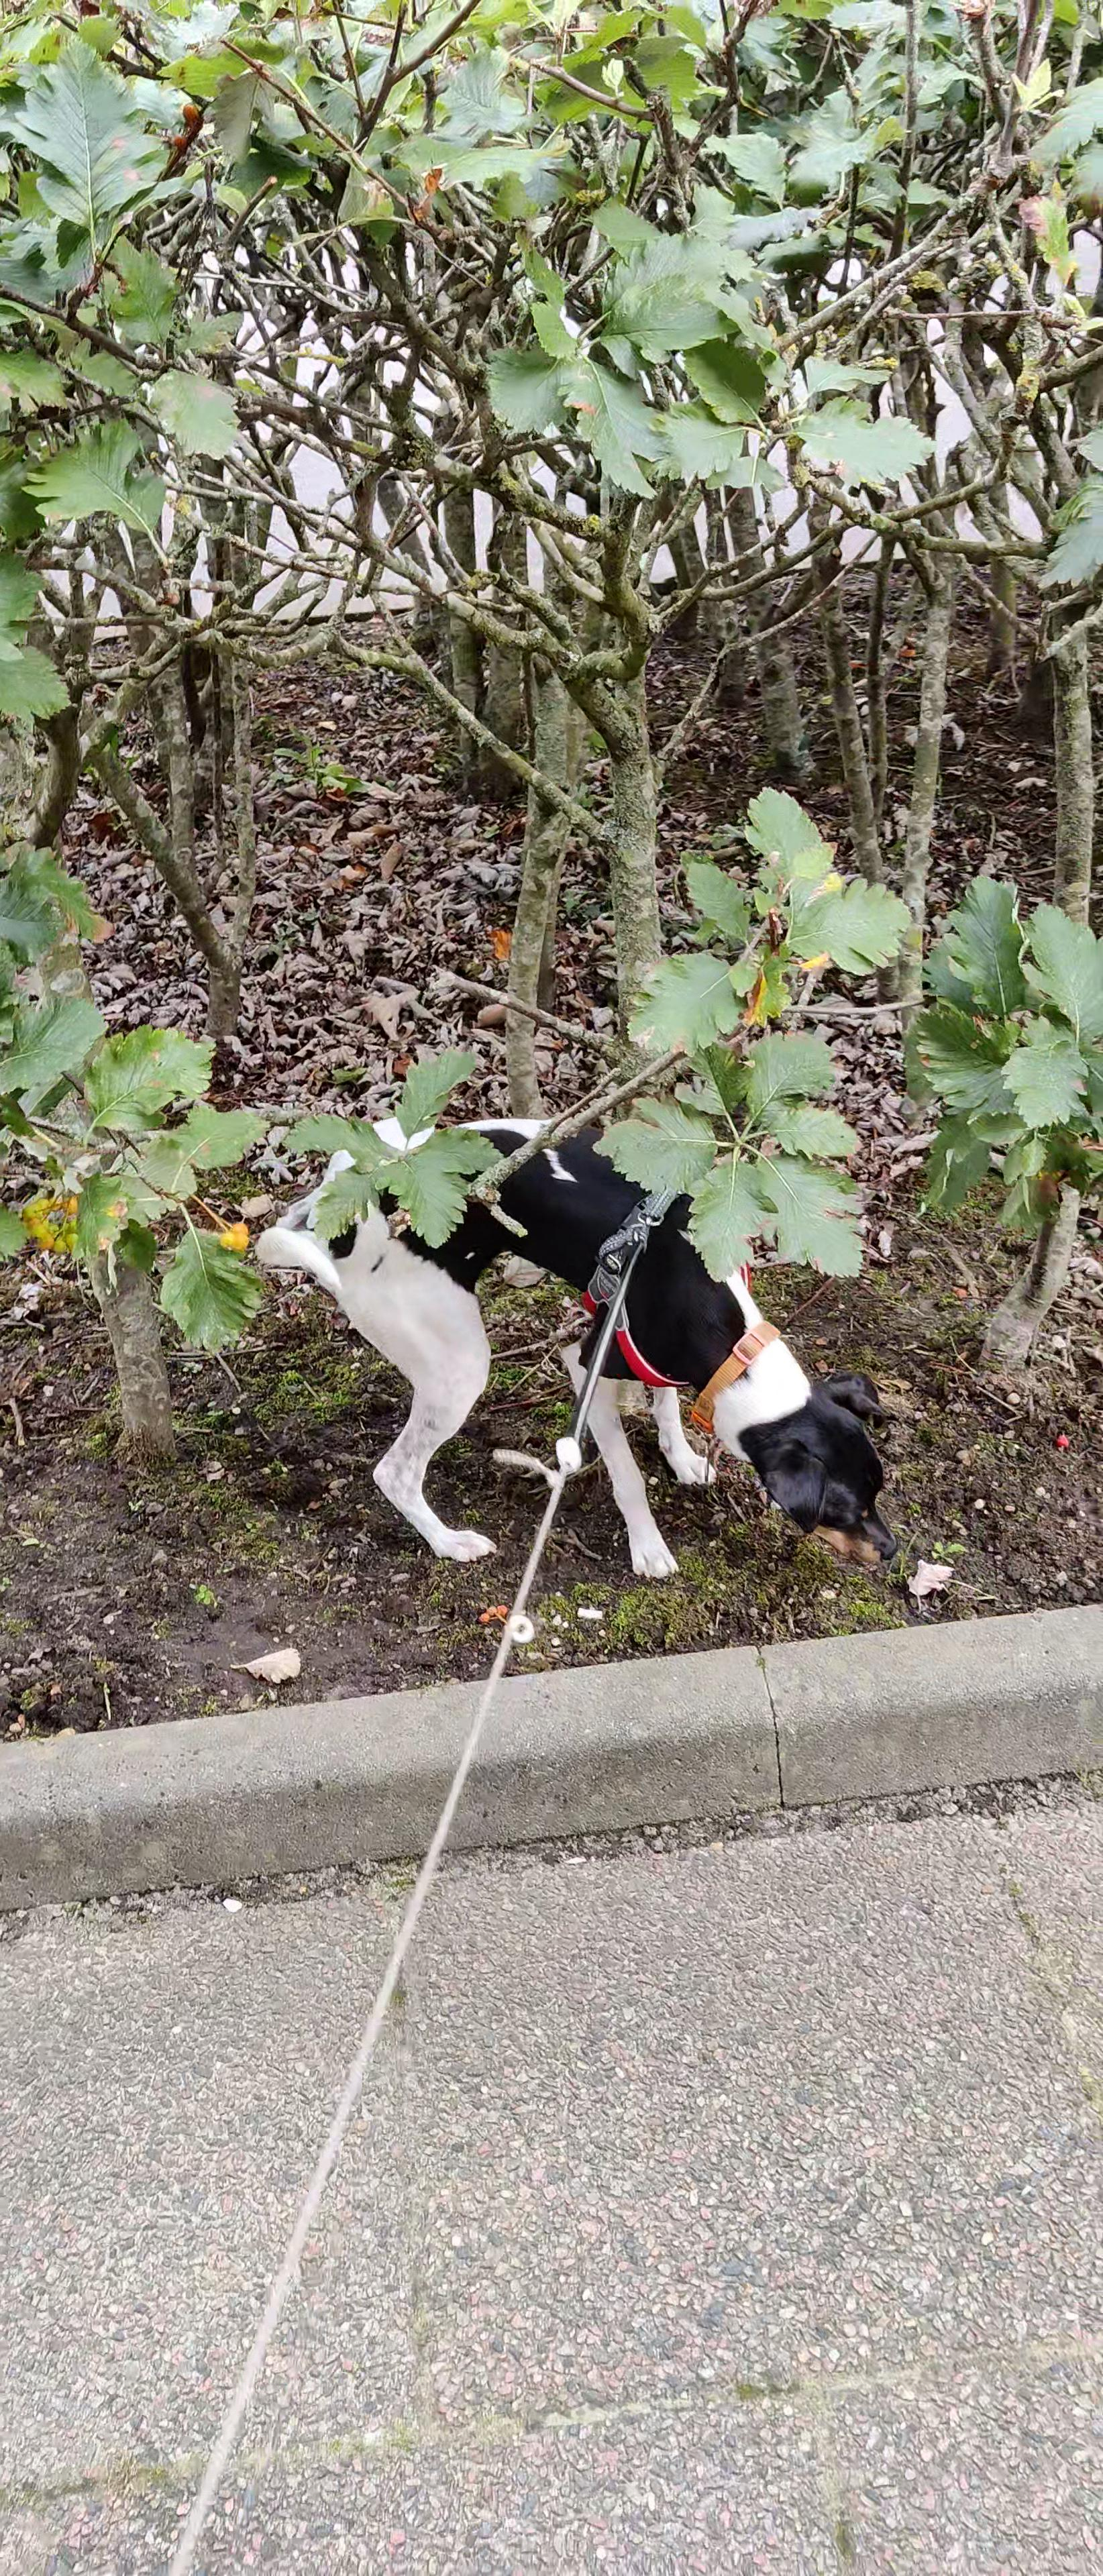Dog: (250, 1096, 907, 1579)
